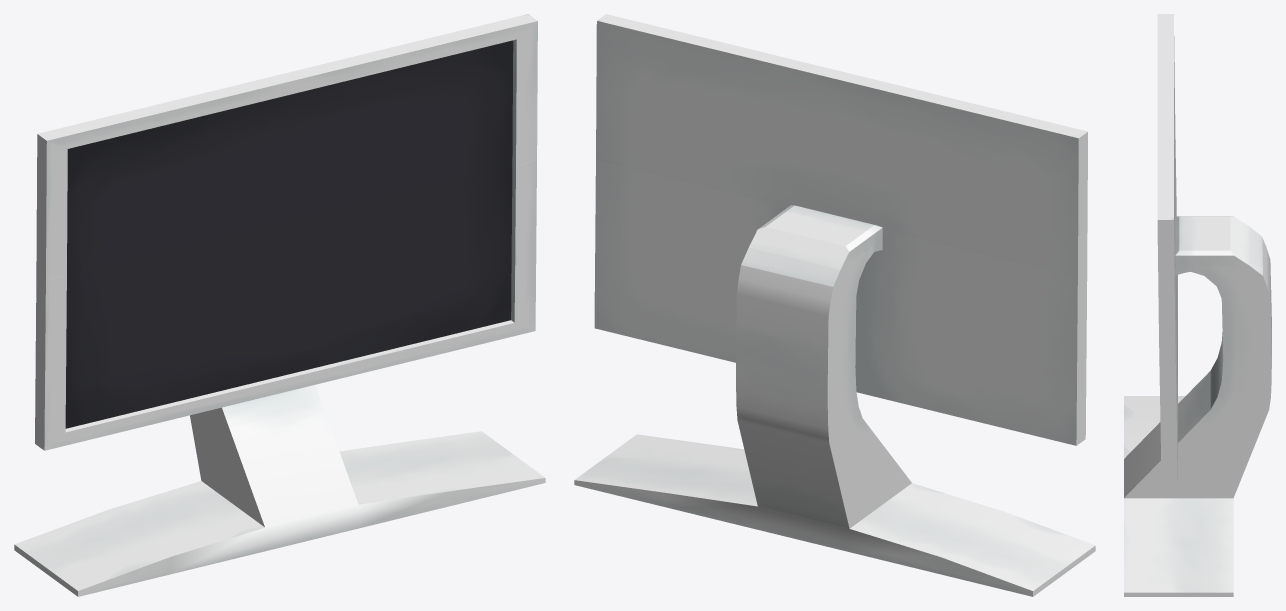
File: monitor.fbx
3 views of the same model, side by side, from view 1: azimuth 30°, elevation 25°; view 2: azimuth 150°, elevation 25°; view 3: azimuth 270°, elevation 25° (orthographic). The views are drawn at different scales.
Parts seen in each view (by area): view 1: pCube1; view 2: pCube1; view 3: pCube1.
Part boxes in pixels (box(x1,y1,x2,y2)): pCube1: box(14, 14, 545, 596); pCube1: box(574, 14, 1095, 596); pCube1: box(1124, 14, 1271, 596).
Size of the model in its own units: 4.45 by 3.85 by 1.35.
